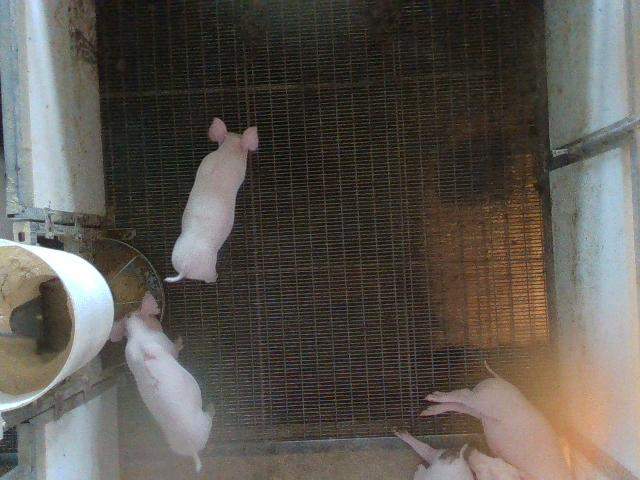pig-5: (110, 291, 214, 471)
